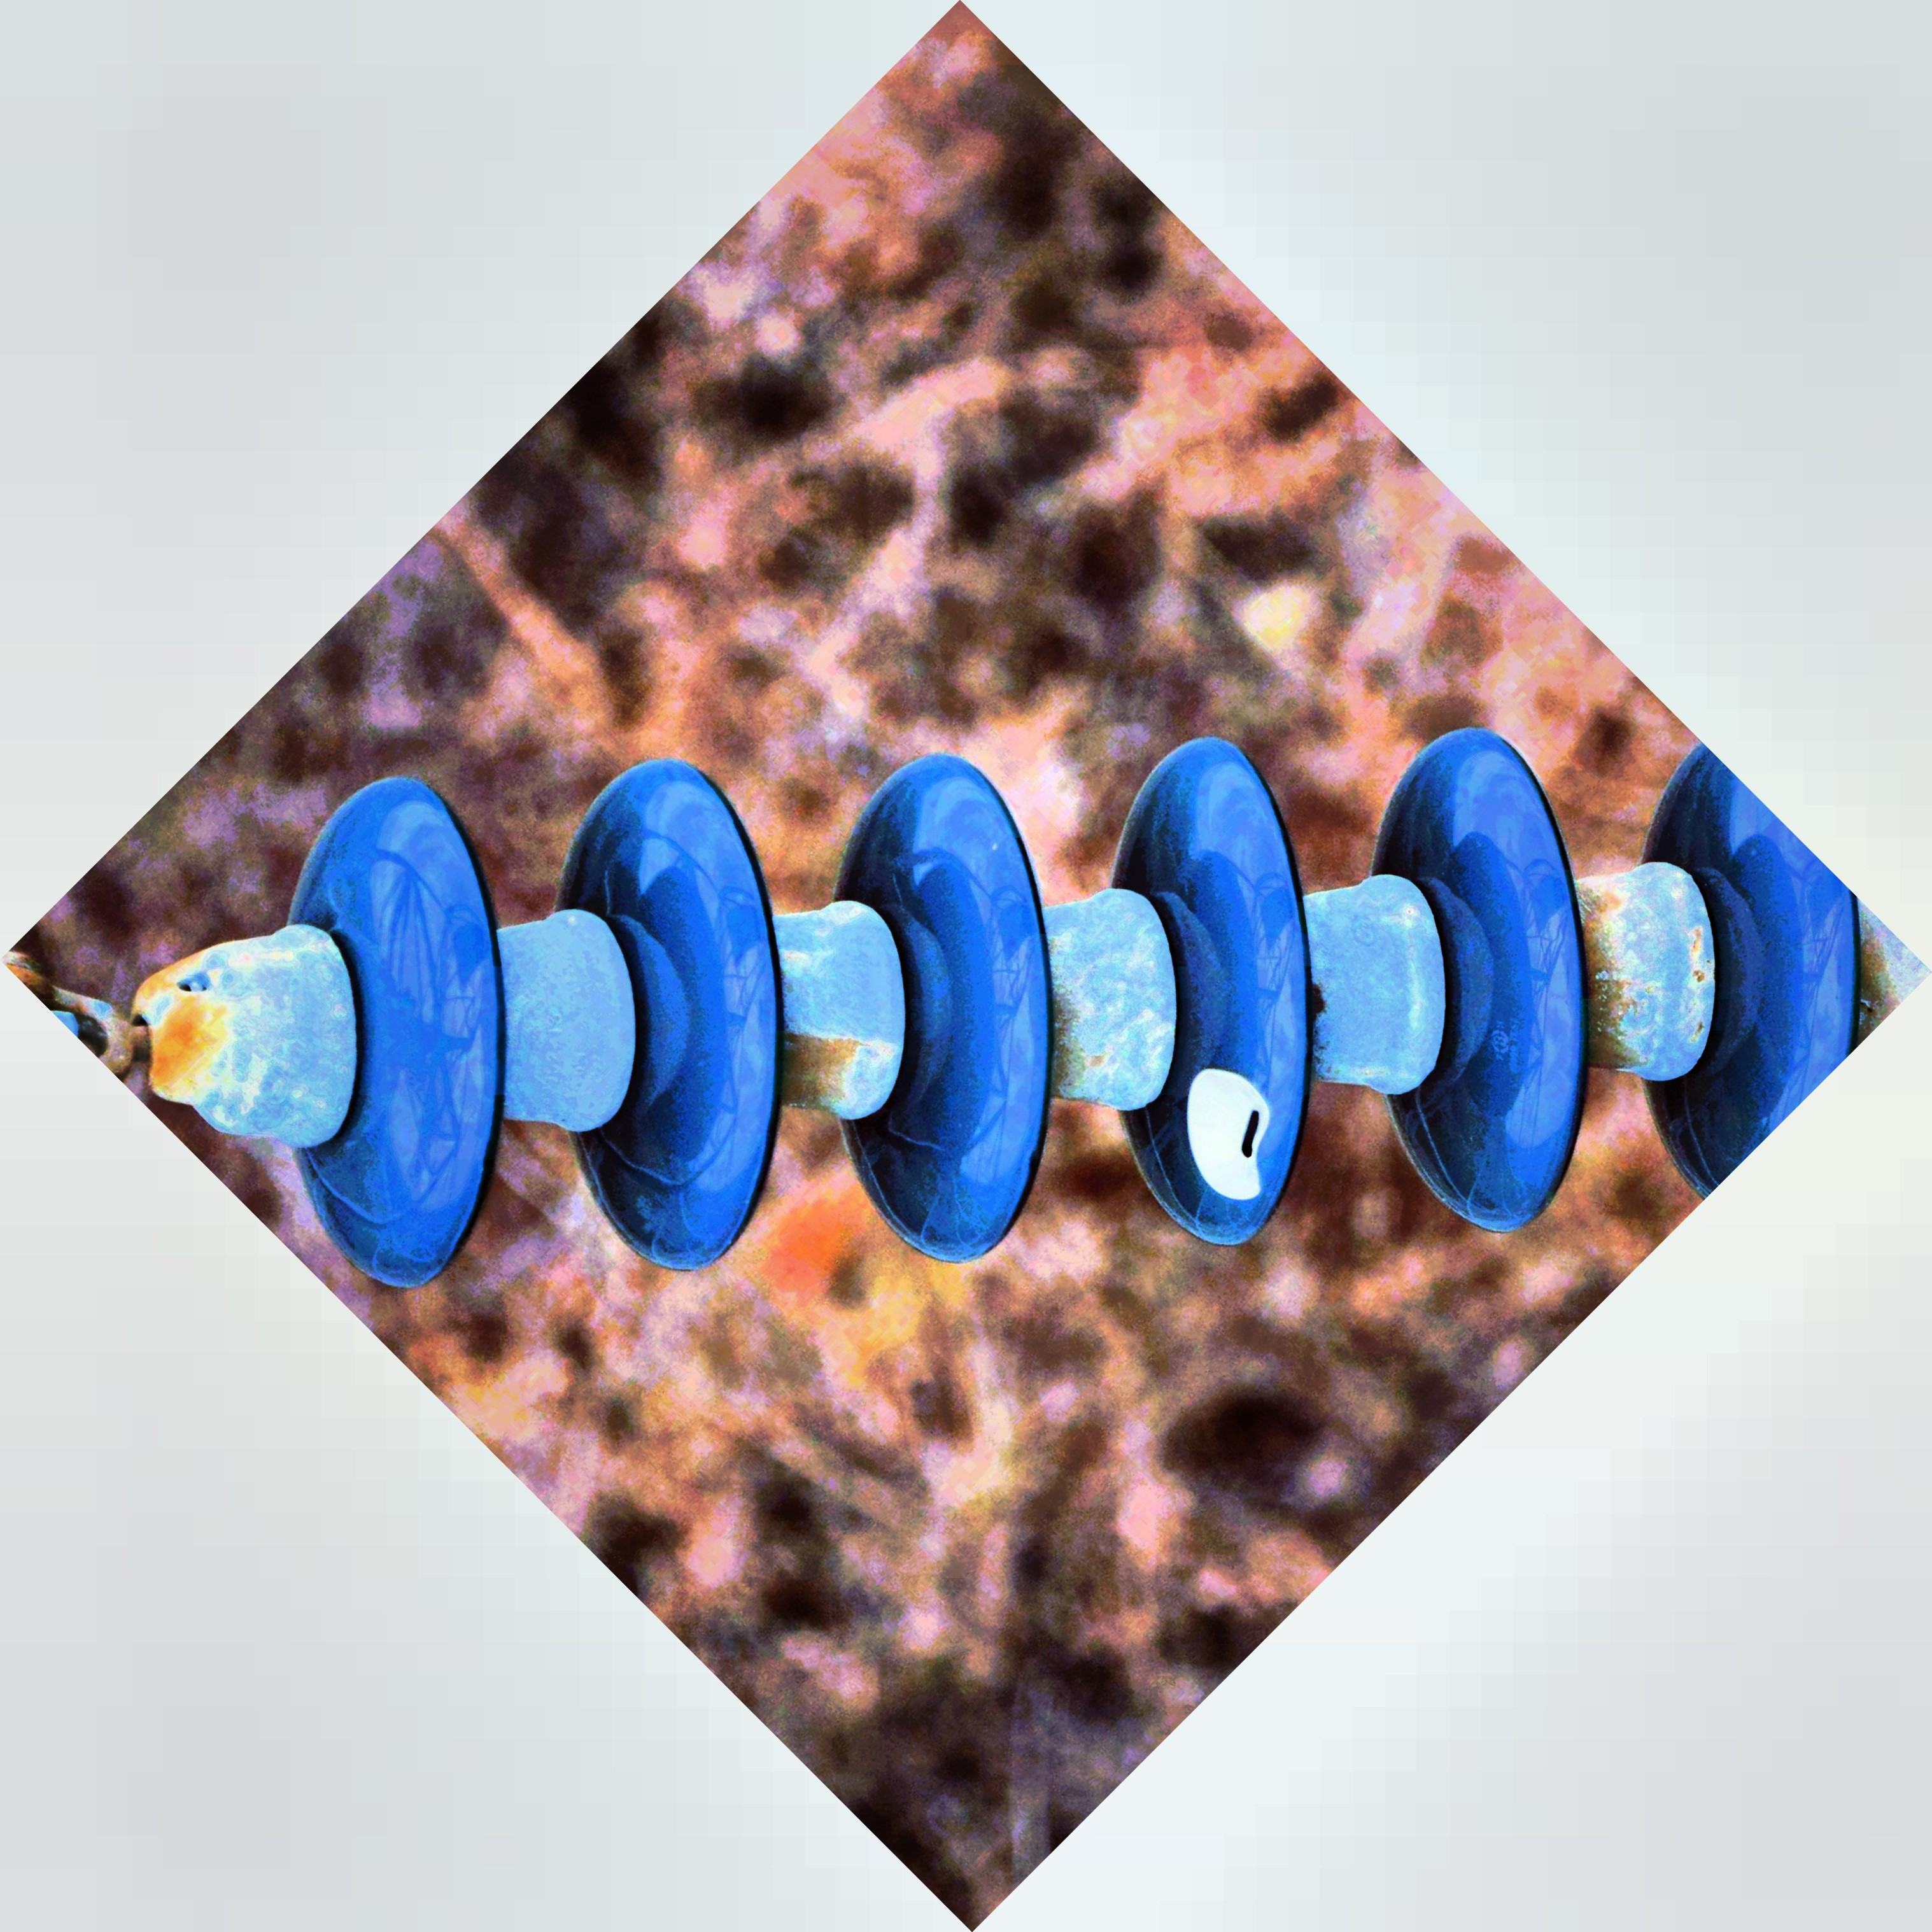insulator breakage: (1106, 731, 1332, 1256)
